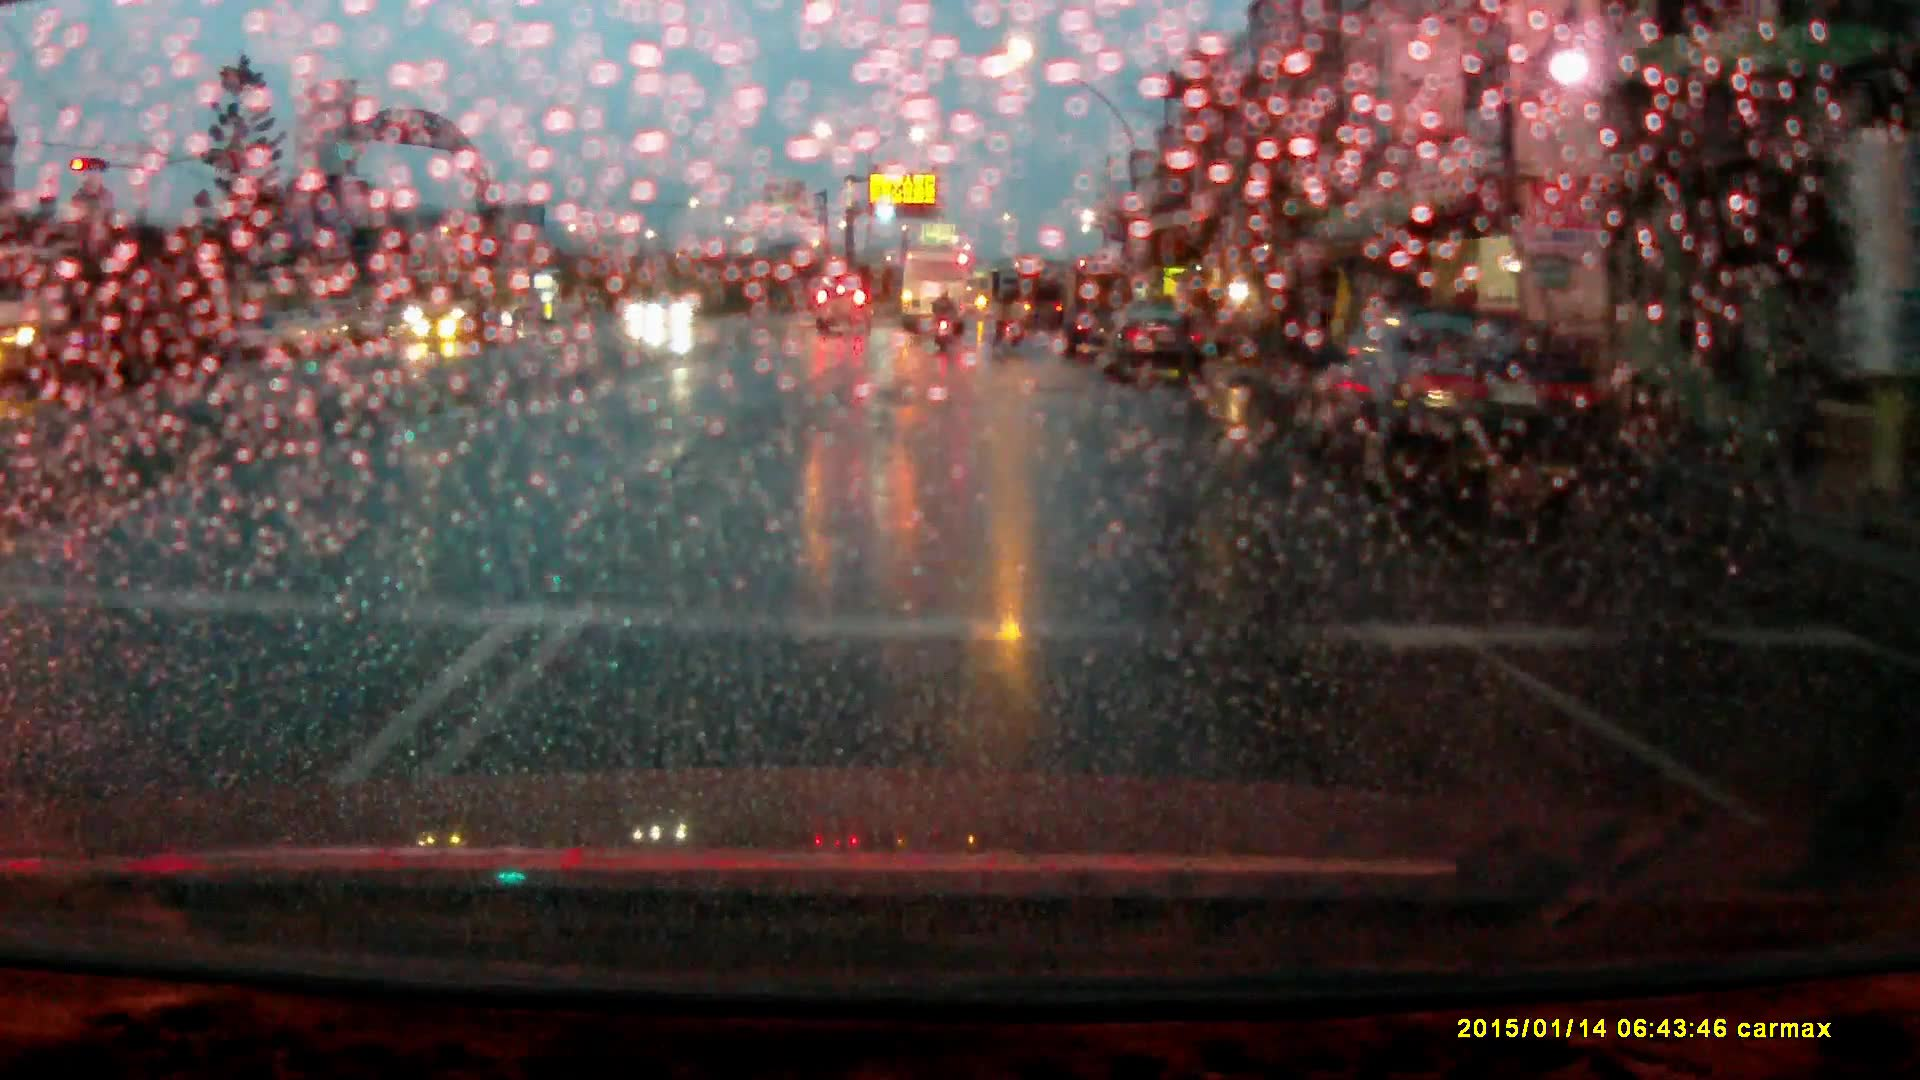rider: (932, 288, 957, 351)
vehicle: (1316, 314, 1590, 500), (1, 242, 228, 396), (403, 265, 534, 343), (1105, 307, 1206, 385), (901, 246, 972, 333), (813, 284, 876, 337), (644, 293, 694, 327)
